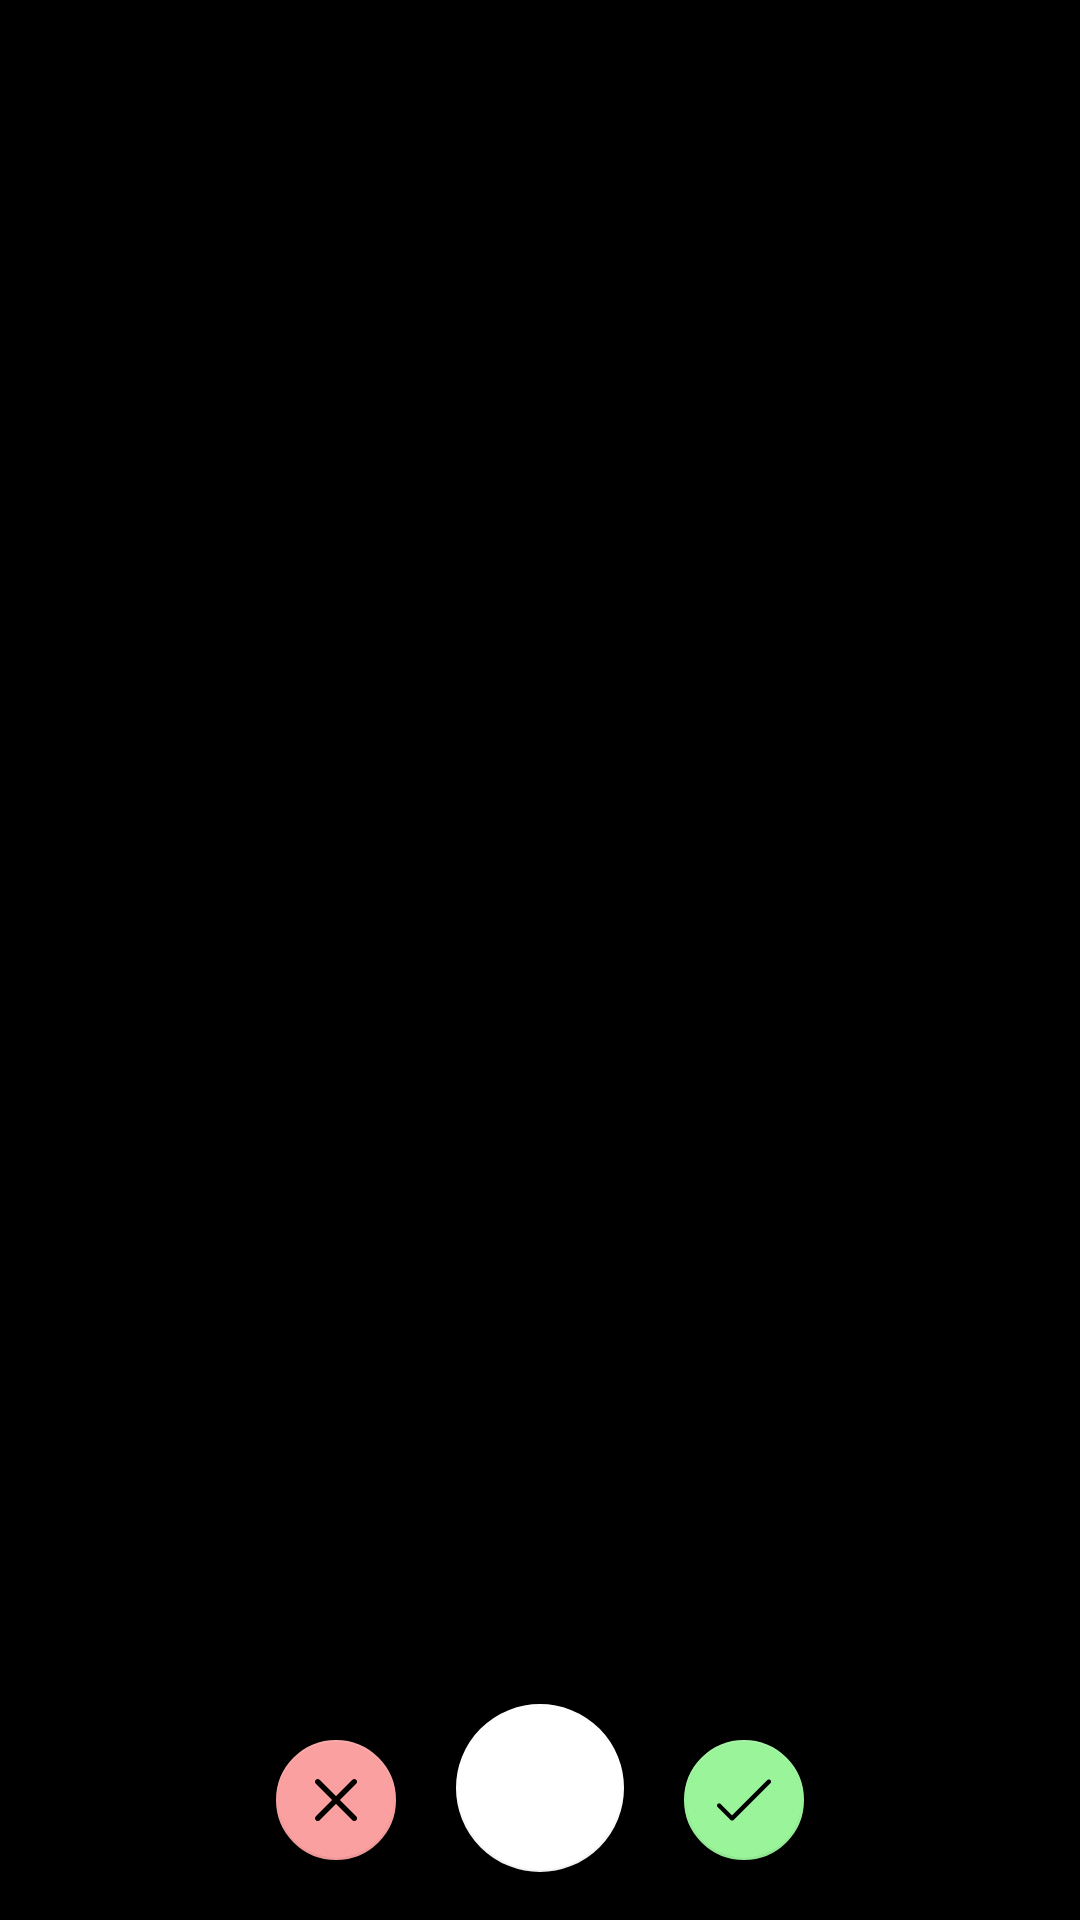

Icon bounding boxes for this 1080px×1920px phone screenshot, format (x1, y1, x2, y2):
cross: (276, 1740, 396, 1860)
tick: (684, 1740, 804, 1860)
